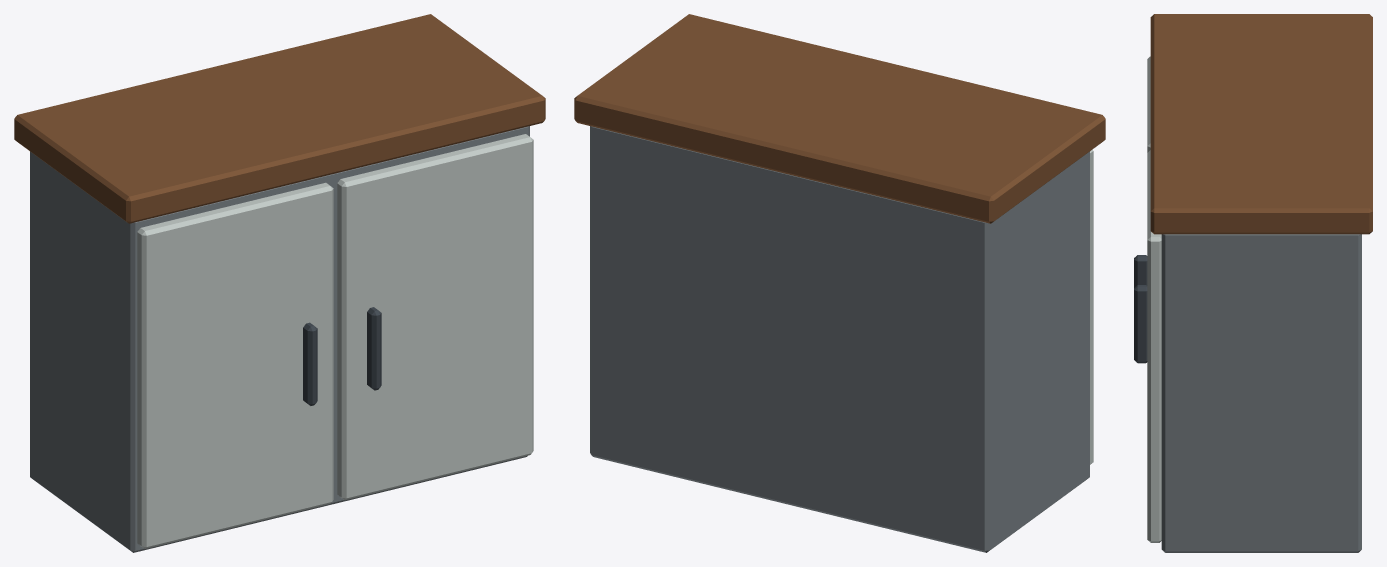
File: LowCabinet.fbx
The picture shows the model from 3 angles, left to right: view 1: azimuth 30°, elevation 25°; view 2: azimuth 150°, elevation 25°; view 3: azimuth 270°, elevation 25°; orthographic projection. The views are drawn at different scales.
Visible parts, largest first — view 1: LowCabinet; view 2: LowCabinet; view 3: LowCabinet.
Boxes of the visible parts, left/top/right/bottom form: LowCabinet: left=14, top=14, right=545, bottom=552; LowCabinet: left=574, top=14, right=1105, bottom=552; LowCabinet: left=1134, top=14, right=1372, bottom=552.
Size of the model in its own units: 105 by 86.75 by 53.75.
1 material, 1 textured.
